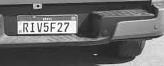placa_mercosul: (17, 15, 77, 33)
